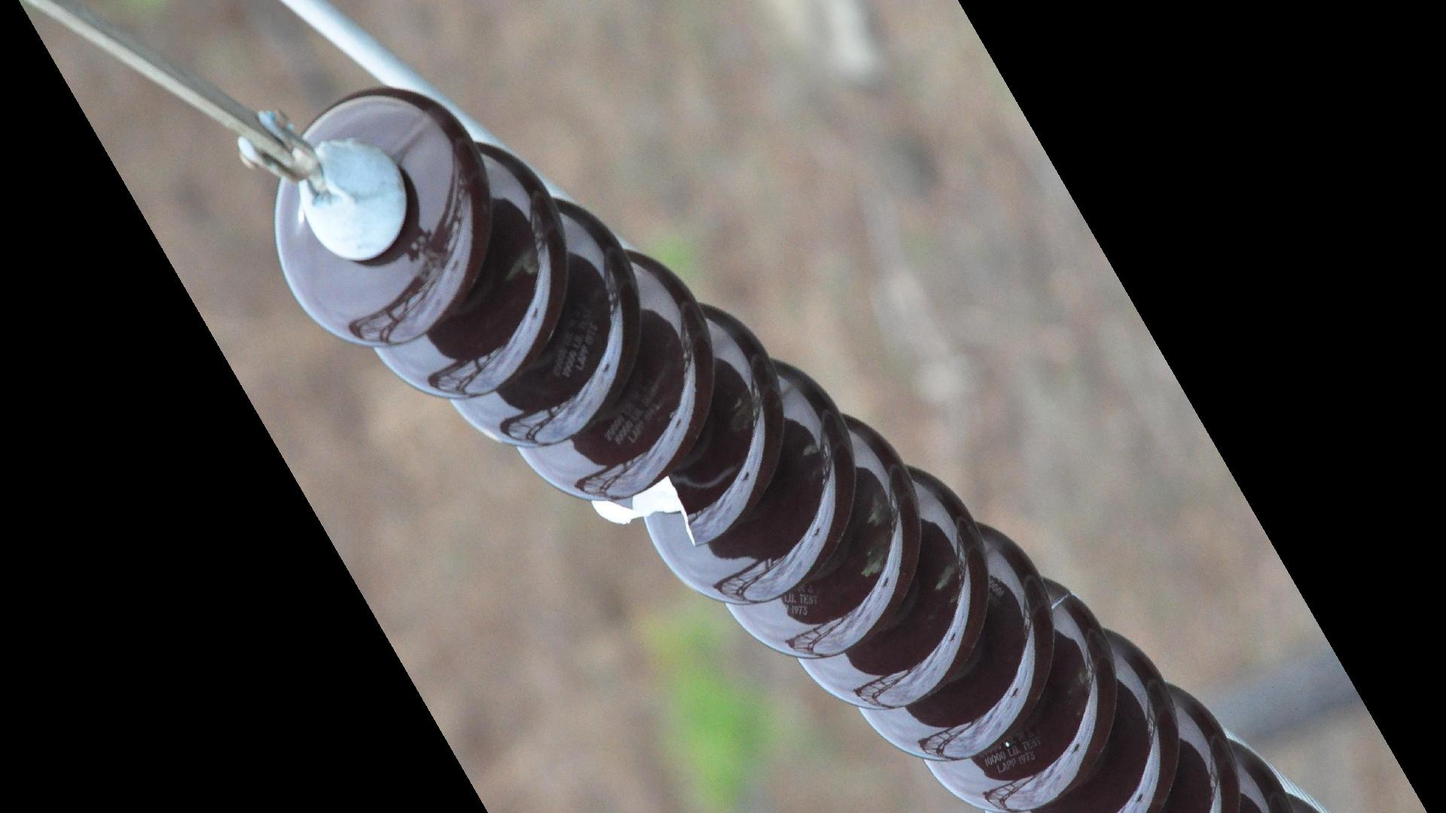insulator: (261, 83, 1318, 813)
insulator_breakage: (588, 470, 713, 553)
